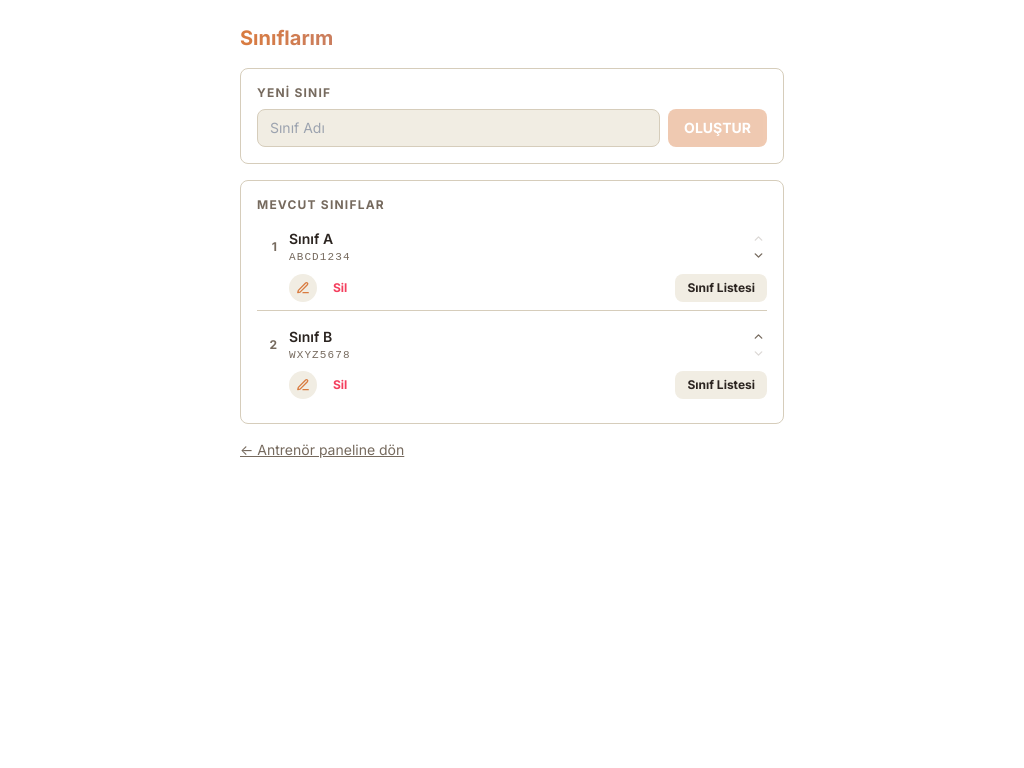
İsim düzeltme (Sınıflarım yönetimi) › kalem ikonuna basıp yeni ad girip Kaydet'e basınca ad güncellenir
Check: the text "Sınıf A" is shown, box [289,230,333,247]
Click the button named "Sınıf A adını düzenle": coordinates (303, 288) [289,274,317,302]
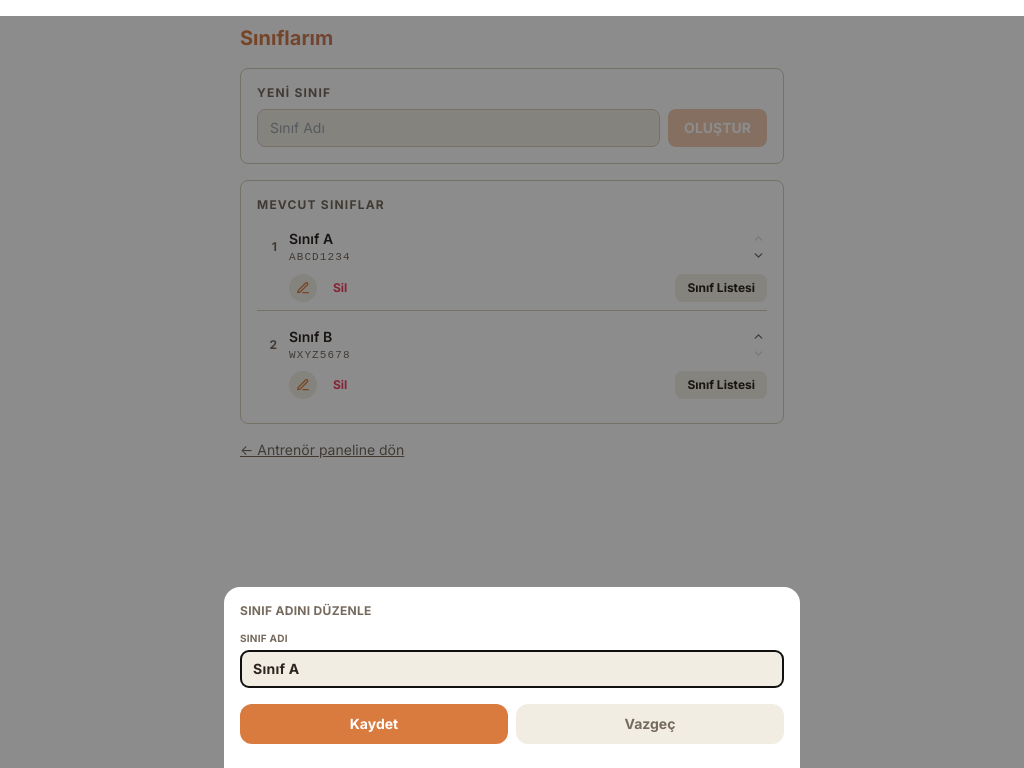
Replace the text in the field labelled "Sınıf Adı" with "Yeni Ad": coordinates (512, 669) [240,650,784,688]
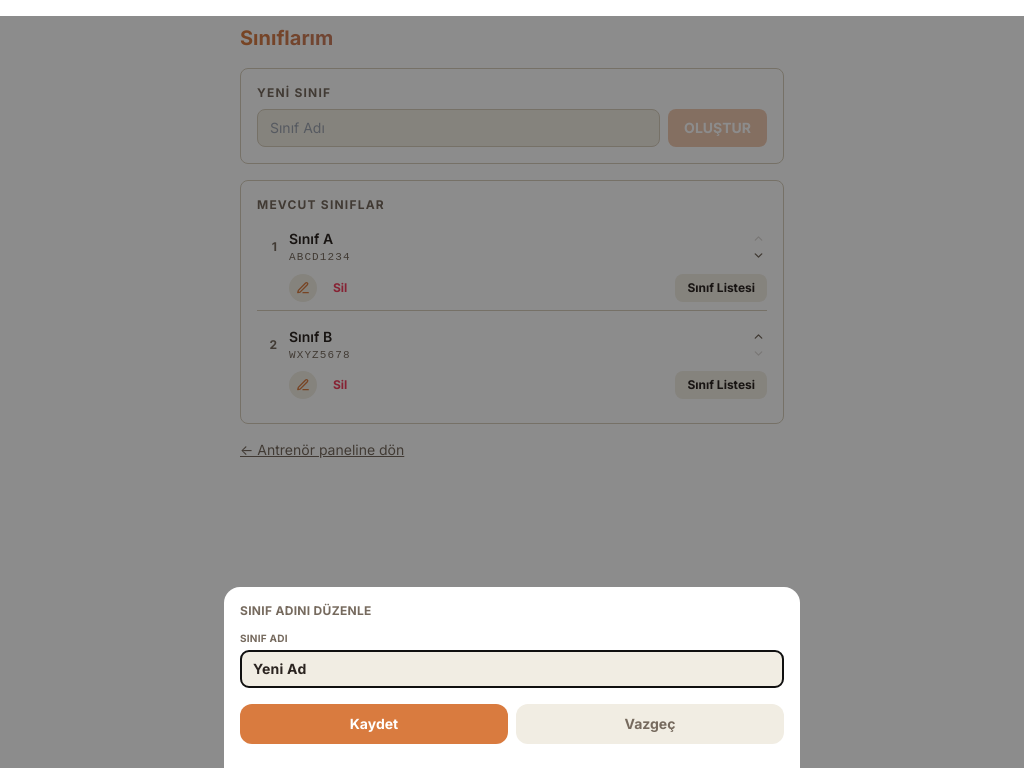
Click the button "Kaydet": coordinates (374, 724) [240,704,508,744]
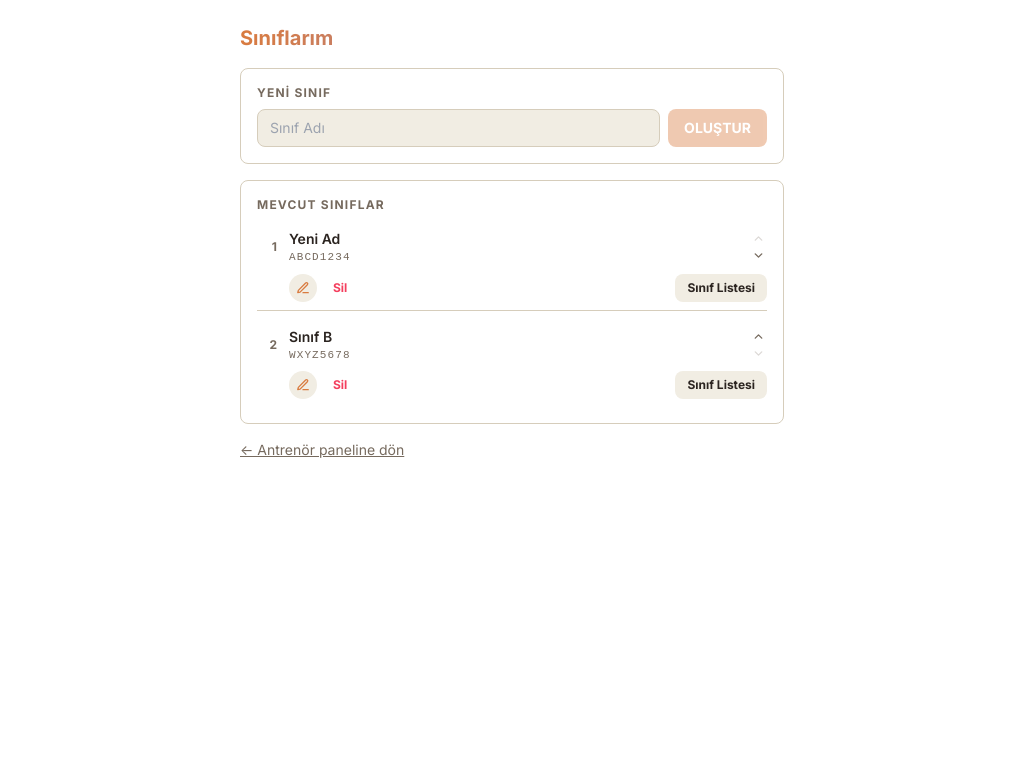
Check: the text "Yeni Ad" is shown, box [289,230,340,247]
